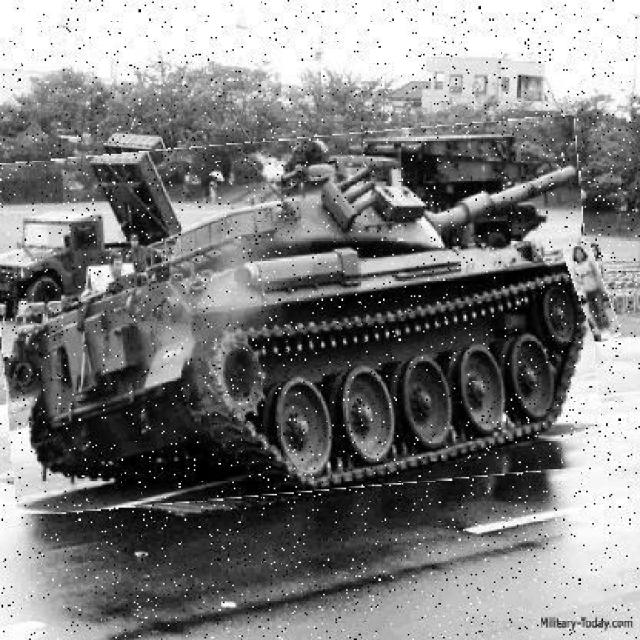Person: (572, 243, 615, 344)
Tank: (1, 127, 598, 506)
